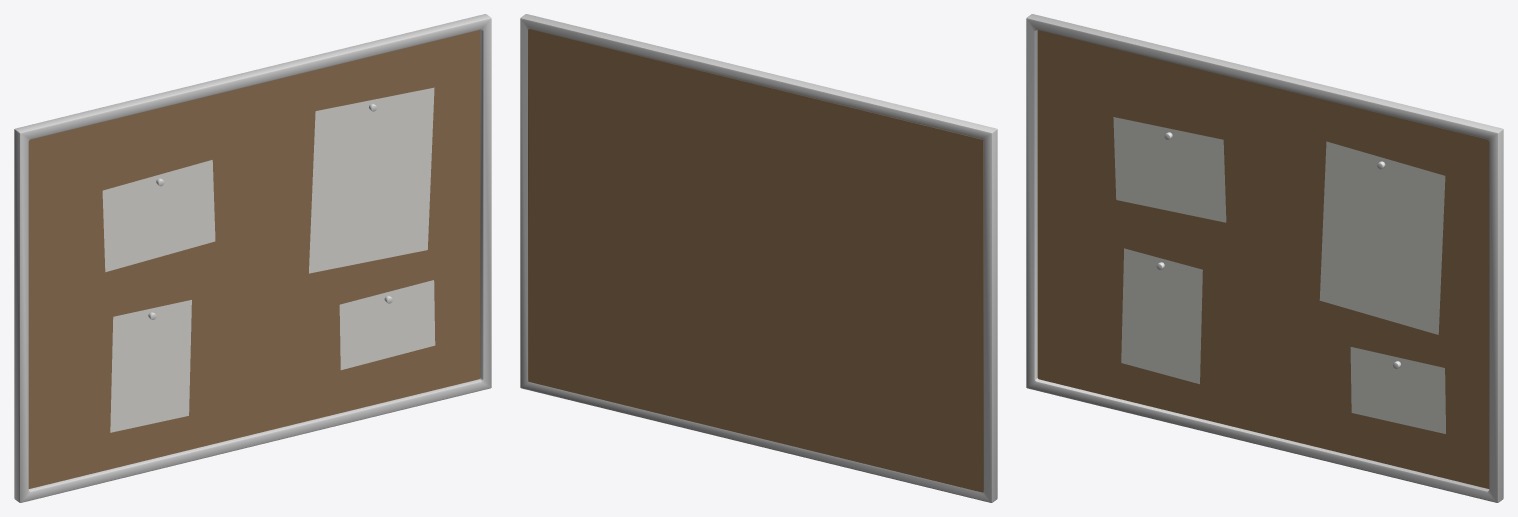
Rendered from Kit_NoticeBoard.fbx.
The picture shows the model from 3 angles, left to right: view 1: azimuth 30°, elevation 25°; view 2: azimuth 150°, elevation 25°; view 3: azimuth 330°, elevation 25°; orthographic projection.
Visible parts, largest first — view 1: Kit_NoticeBoard_LOD0; view 2: Kit_NoticeBoard_LOD0; view 3: Kit_NoticeBoard_LOD0.
Boxes of the visible parts, <box> form: Kit_NoticeBoard_LOD0: <box>14,14,491,502</box>; Kit_NoticeBoard_LOD0: <box>520,14,997,502</box>; Kit_NoticeBoard_LOD0: <box>1026,14,1503,502</box>.
Size of what is drawn, in the model's own units: 0.6 by 0.45 by 0.014.
